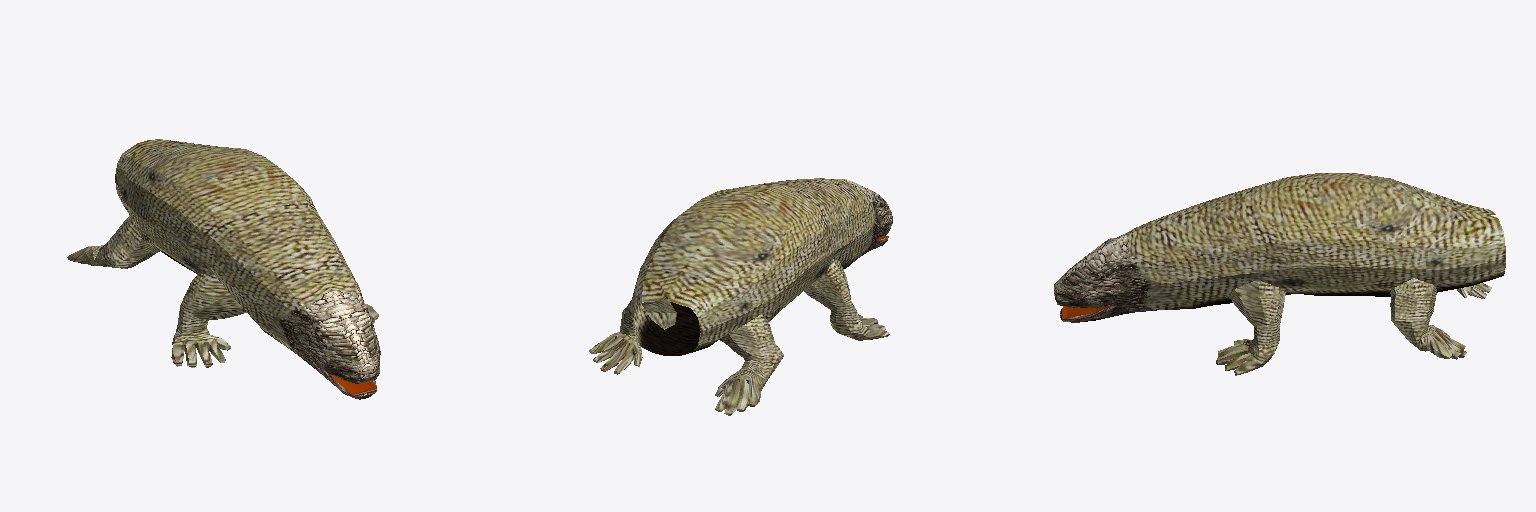
The picture shows the model from 3 angles: view 1: azimuth 30°, elevation 25°; view 2: azimuth 150°, elevation 25°; view 3: azimuth 270°, elevation 25°; orthographic projection.
Parts seen in each view (by area): view 1: Box01; view 2: Box01; view 3: Box01.
Boxes of the visible parts, x1,y1,x2,y2 form: Box01: [67, 139, 380, 399]; Box01: [589, 178, 892, 415]; Box01: [1054, 173, 1505, 375].
Size of the model in its own units: 27.88 by 18.67 by 53.57.
2 materials, 1 textured.